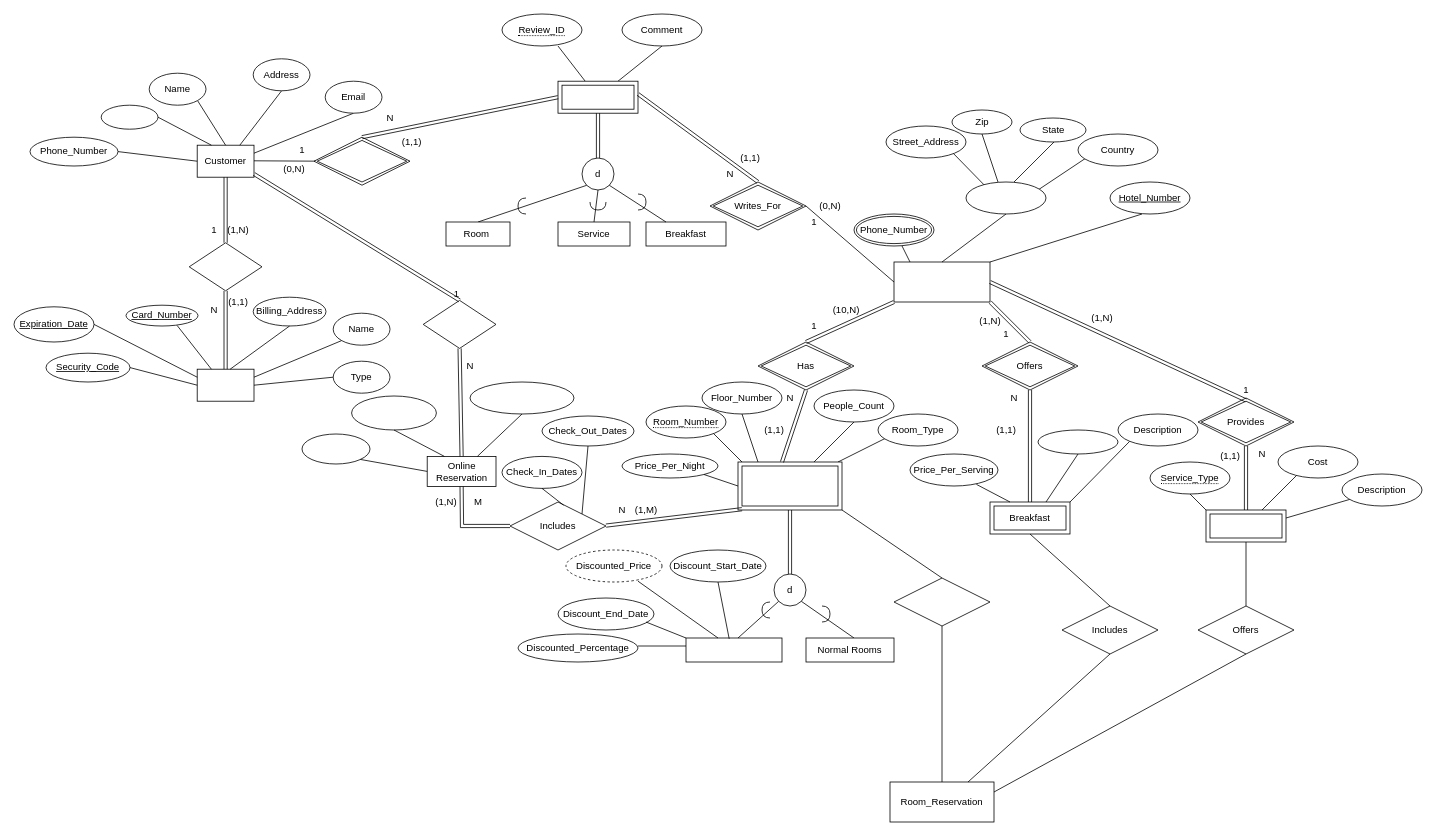
The diagram is 1436 pixels wide and 836 high, and some of its shapes have lost their labels. The box of each missing label's shape, as (x1, y1, x2, y2) in pixels:
Amount_Paid: (301, 433, 370, 464)
Breakfast_Type: (1037, 429, 1118, 454)
Credit Card: (196, 368, 254, 401)
Discounted Rooms: (685, 637, 782, 662)
Hotel: (893, 261, 990, 302)
ID: (100, 104, 158, 129)
Invoice_Number: (351, 395, 436, 430)
Location: (965, 181, 1046, 214)
Makes: (422, 300, 496, 348)
Reserved: (893, 577, 990, 626)
Review: (557, 80, 638, 113)
Rooms: (737, 461, 842, 510)
Services: (1205, 509, 1286, 542)
Transaction_Date: (469, 381, 574, 414)
Uses: (188, 242, 262, 291)
Writes: (313, 136, 410, 185)
